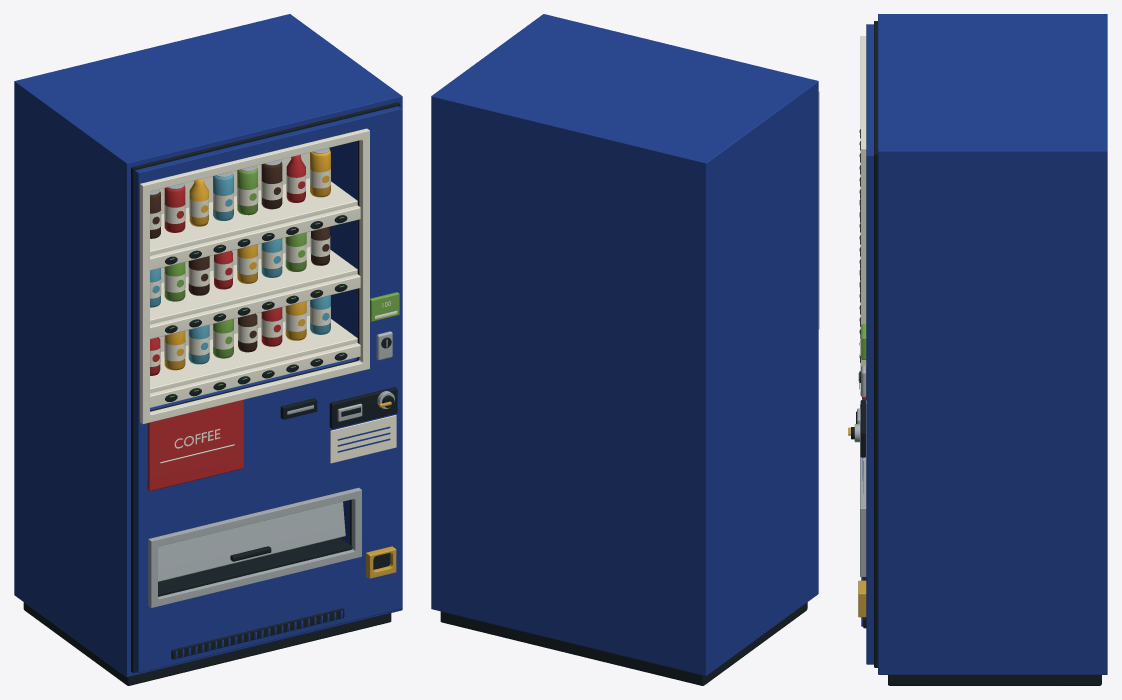
File: S059_vending_machine_jp.glb
3 views of the same model, side by side, from view 1: azimuth 30°, elevation 25°; view 2: azimuth 150°, elevation 25°; view 3: azimuth 270°, elevation 25° (orthographic). The views are drawn at different scales.
Parts seen in each view (by area): view 1: Vending_cobalt_blue_paint, Vending_ivory_shelves_and_labels, Vending_dark_recesses_and_rubber, Vending_brushed_steel_fittings, Vending_red_advertisement, Vending_green_status_display, Drink_orange, Drink_light_blue, Drink_coffee_brown, Vending_return_pocket_surround; view 2: Vending_cobalt_blue_paint, Vending_dark_recesses_and_rubber; view 3: Vending_cobalt_blue_paint, Vending_dark_recesses_and_rubber, Vending_ivory_shelves_and_labels, Vending_brushed_steel_fittings.
Boxes of the visible parts, box(x1,y1,x2,y2) form: Vending_cobalt_blue_paint: box(14, 14, 402, 677); Vending_ivory_shelves_and_labels: box(140, 128, 397, 463); Vending_dark_recesses_and_rubber: box(23, 102, 400, 685); Vending_brushed_steel_fittings: box(148, 148, 394, 607); Vending_red_advertisement: box(147, 154, 305, 491); Vending_green_status_display: box(164, 168, 399, 397); Drink_orange: box(164, 150, 330, 370); Drink_light_blue: box(150, 173, 330, 364); Drink_coffee_brown: box(150, 161, 329, 352); Vending_return_pocket_surround: box(366, 401, 396, 578); Vending_cobalt_blue_paint: box(431, 14, 818, 675); Vending_dark_recesses_and_rubber: box(440, 602, 807, 685); Vending_cobalt_blue_paint: box(861, 14, 1107, 674); Vending_dark_recesses_and_rubber: box(851, 21, 1101, 685); Vending_ivory_shelves_and_labels: box(860, 36, 866, 493); Vending_brushed_steel_fittings: box(854, 365, 866, 576).
Bounding box in the file's own units: 0.82 × 1.5 × 0.655.
